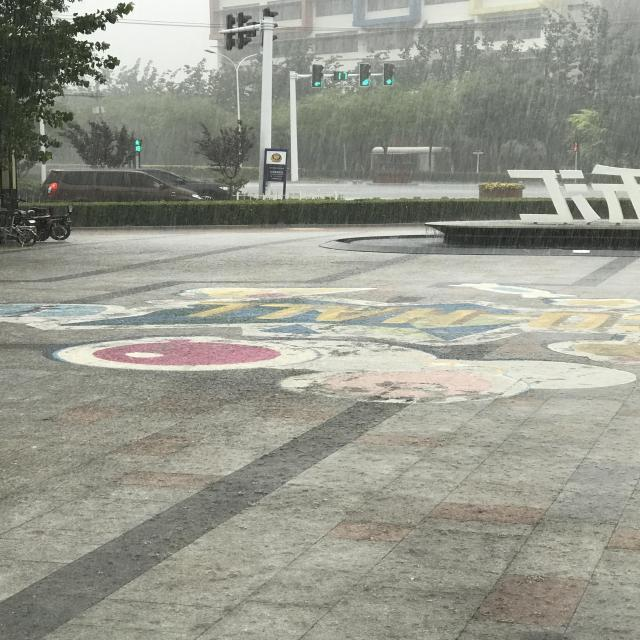car: (165, 435, 214, 608), (164, 383, 202, 506)
